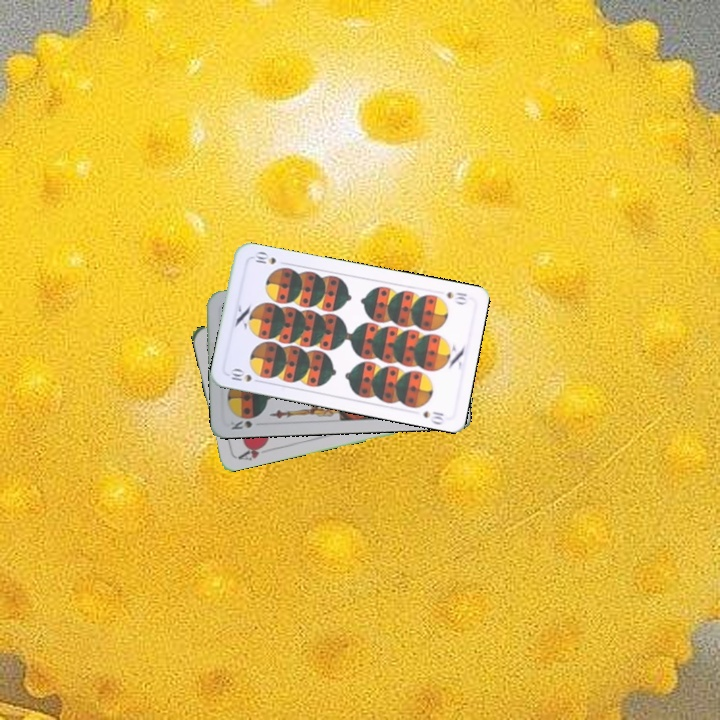HA: (234, 439, 269, 463)
S10: (224, 365, 265, 385), (442, 288, 469, 307)
SK: (226, 416, 255, 432)
